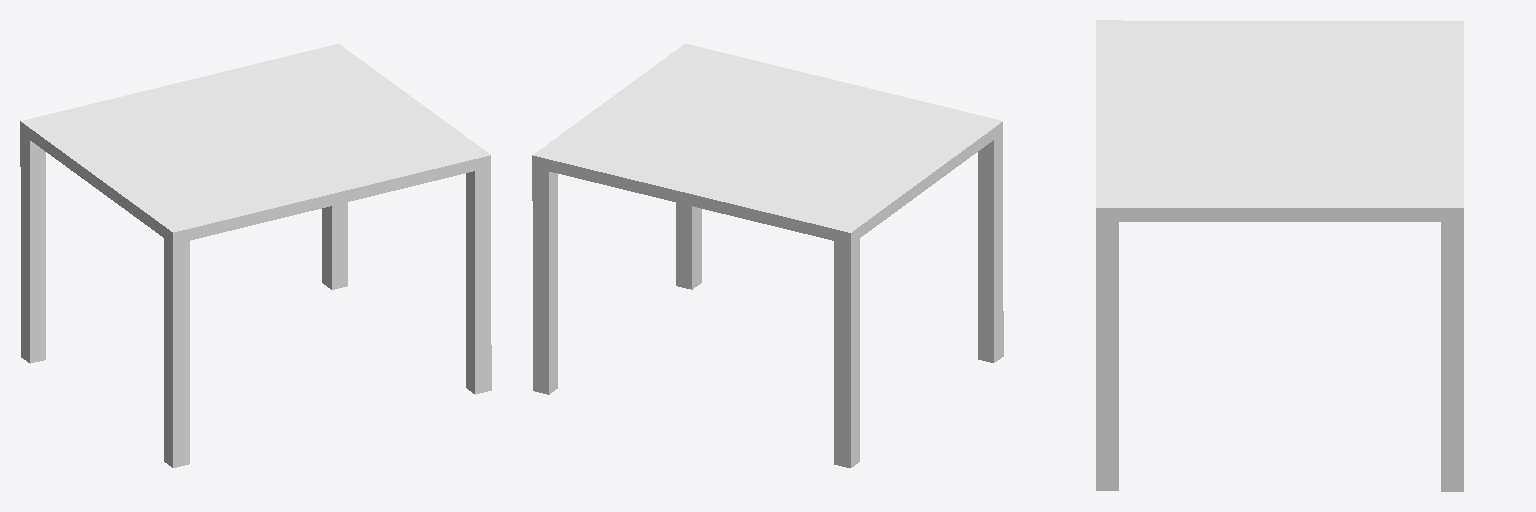
robot.urdf — shelfandtable:
<?xml version="1.0" ?>
<robot name="shelfandtable">
  <link name="shelfandtableLink">
  <contact>
      <lateral_friction value="1"/>
  </contact>
    <inertial>
      <origin rpy="0 0 0" xyz="0 0 0"/>
       <mass value=".0"/>
       <inertia ixx="0" ixy="0" ixz="0" iyy="0" iyz="0" izz="0"/>
    </inertial>
    <visual>
      <origin rpy="1.57 0 0" xyz="0 0 0"/>
      <geometry>
				<mesh filename="shelfandtable.obj" scale="1 1 1"/>
      </geometry>
       <material name="white">
        <color rgba="1 1 1 1"/>
      </material>
    </visual>
    <collision>
      <origin rpy="1.57 0 0" xyz="0 0 0"/>
      <geometry>
		<mesh filename="shelfandtable.obj" scale="1 1 1"/>
      </geometry>
    </collision>
  </link>
</robot>

--- Render facts (derived) ---
The picture shows the robot from 3 angles, left to right: view 1: azimuth 30°, elevation 25°; view 2: azimuth 150°, elevation 25°; view 3: azimuth 270°, elevation 25°; orthographic projection.
Model shelfandtable with 1 links and 0 joints (none), rooted at shelfandtableLink, posed all joints at 0.
Visible links, largest first — view 1: shelfandtableLink; view 2: shelfandtableLink; view 3: shelfandtableLink.
Boxes of the visible links, x1,y1,x2,y2 form: shelfandtableLink: (20,44,491,467); shelfandtableLink: (532,44,1003,467); shelfandtableLink: (1096,20,1463,491).
Bounding box of the posed robot: 1.2 × 0.9996 × 0.8513 m (x, y, z).
Meshes: 1 distinct files referenced, 1 mesh visuals loaded (1 OBJ).